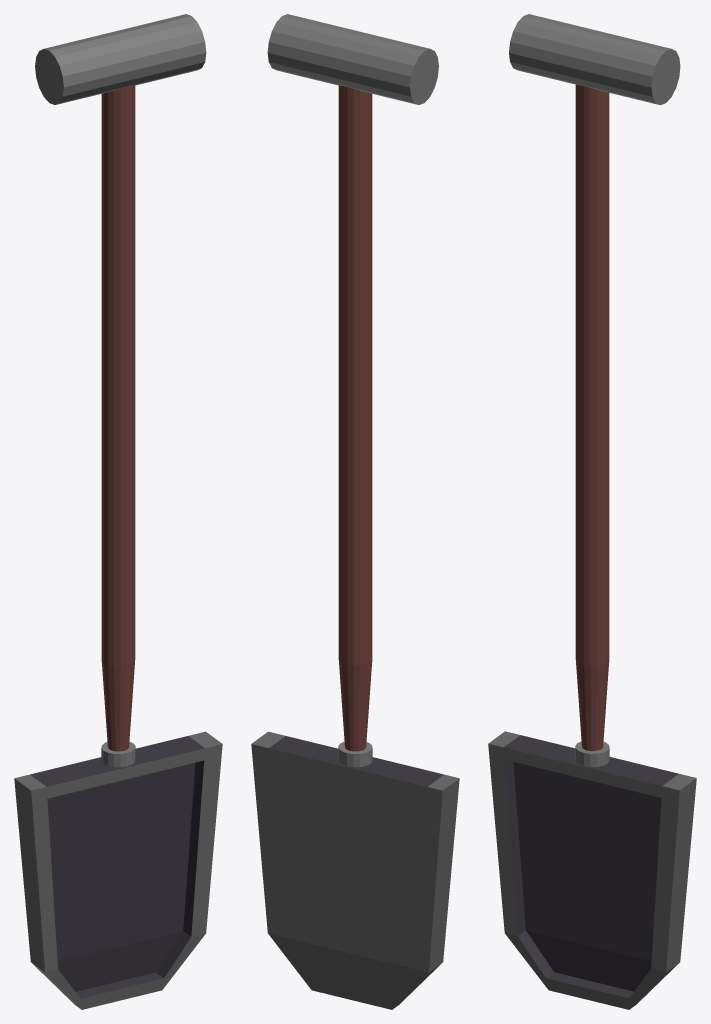
3 renders of one model, left to right at view 1: azimuth 30°, elevation 25°; view 2: azimuth 150°, elevation 25°; view 3: azimuth 330°, elevation 25°, orthographic.
Parts seen in each view (by area): view 1: Cube; view 2: Cube; view 3: Cube.
Part boxes in pixels (x1,y1,x2,y2): Cube: (14,14,222,1009); Cube: (251,14,459,1009); Cube: (488,14,696,1009).
Size of the model in its own units: 173 by 830 by 45.05.
